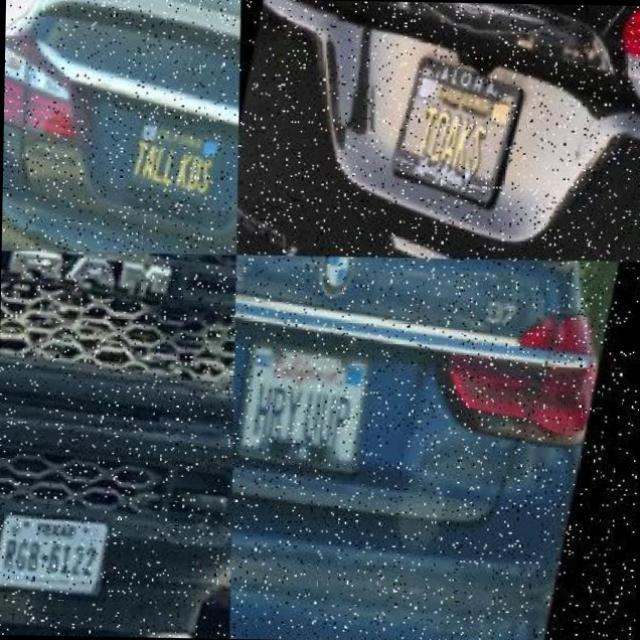LicensePlate: (232, 326, 388, 492), (388, 48, 526, 214), (0, 515, 105, 602), (122, 118, 218, 208)
